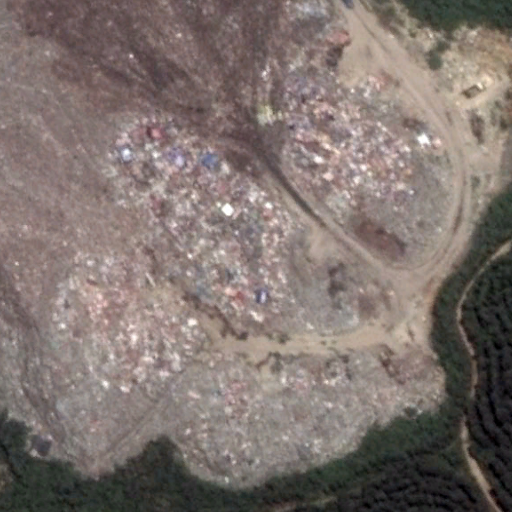msw: (53, 73, 448, 489)
